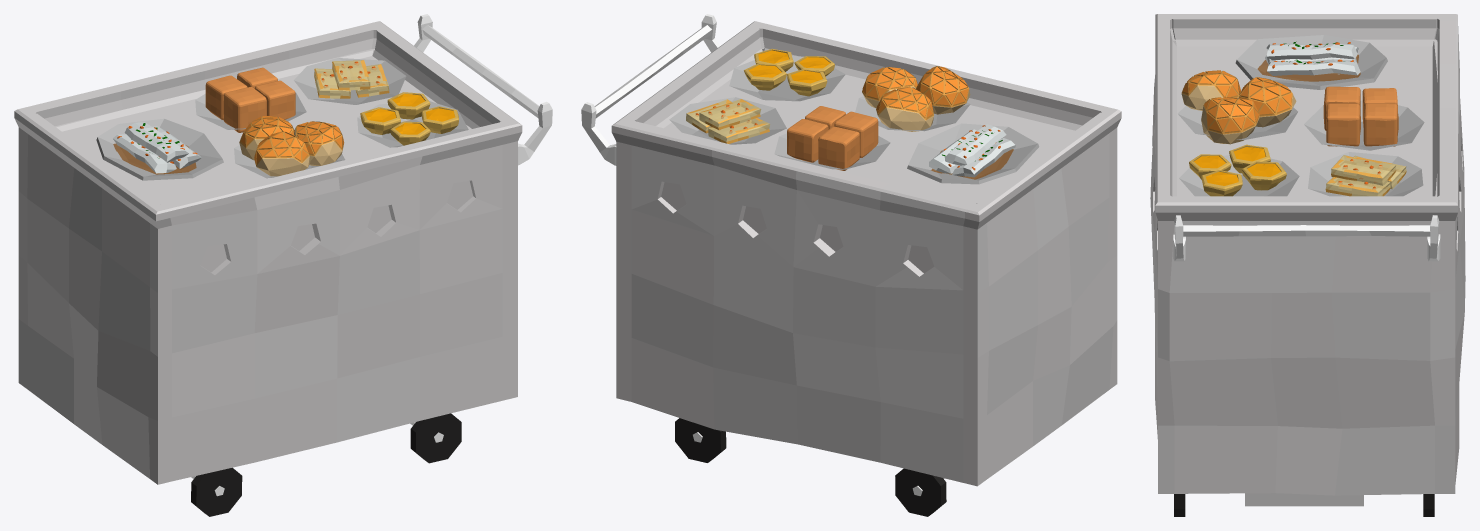
The model's file is Dim_Sum_Cart_3.fbx.
The picture shows the model from 3 angles, left to right: view 1: azimuth 30°, elevation 25°; view 2: azimuth 150°, elevation 25°; view 3: azimuth 270°, elevation 25°; orthographic projection. The views are drawn at different scales.
Parts seen in each view (by area): view 1: Cube.003; view 2: Cube.003; view 3: Cube.003.
Part boxes in pixels (x1,y1,x2,y2): Cube.003: (14,14,552,516); Cube.003: (581,14,1121,516); Cube.003: (1150,14,1465,516).
Size of the model in its own units: 850 by 686 by 530.
